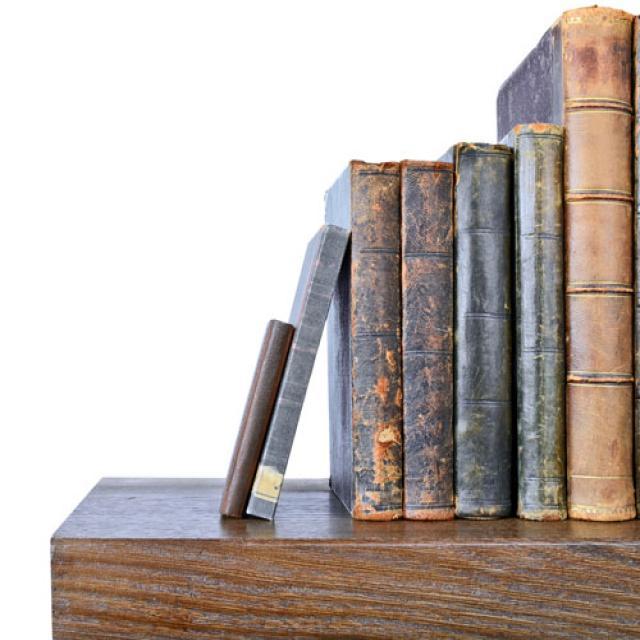Books: (564, 8, 635, 520), (246, 225, 350, 519), (326, 161, 402, 519), (511, 124, 568, 520), (456, 145, 515, 518), (402, 162, 455, 519), (220, 320, 294, 518)
